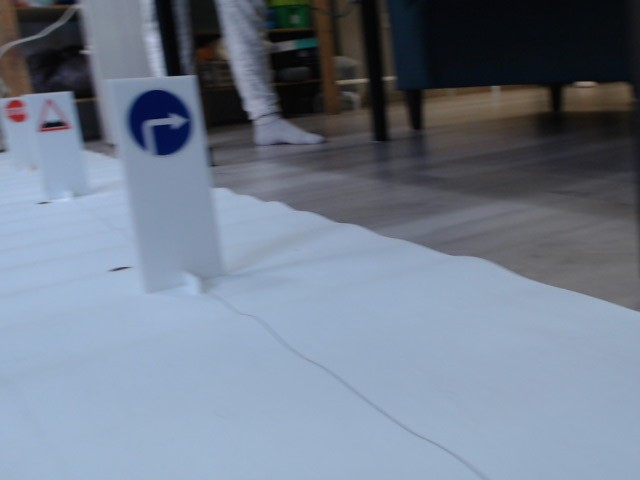Nerov: (36, 99, 72, 134)
Right: (124, 89, 191, 157)
